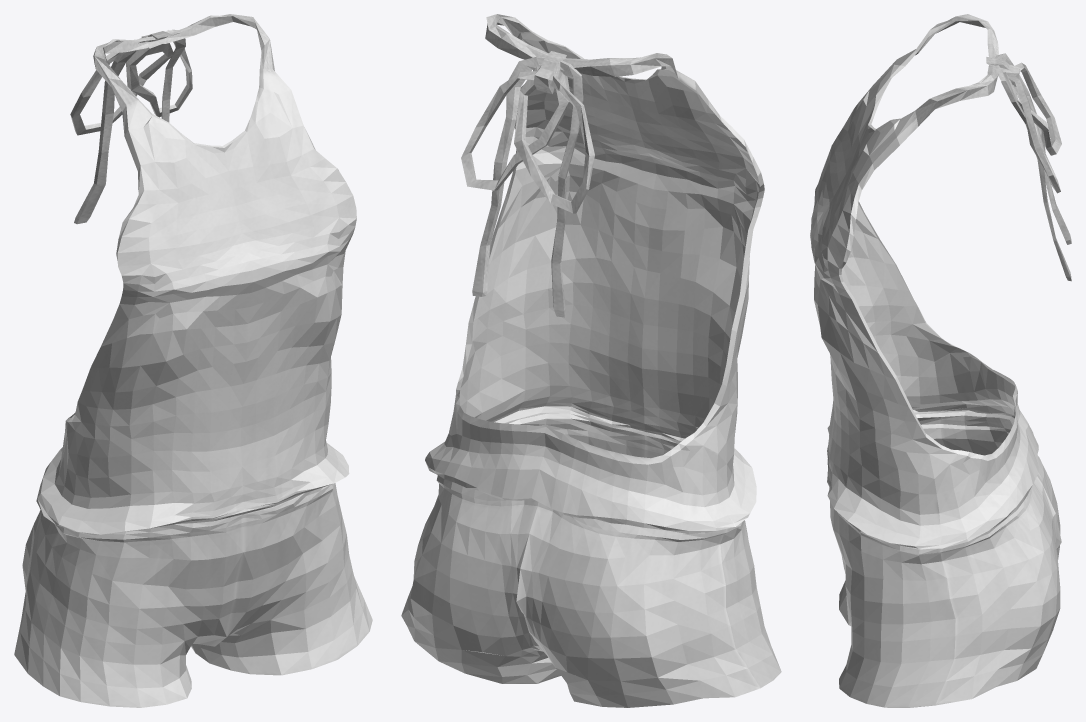
Rendered from mhw_punkduck_halterneck_romper.glb.
3 renders of one model, left to right at view 1: azimuth 30°, elevation 25°; view 2: azimuth 150°, elevation 25°; view 3: azimuth 270°, elevation 25°, orthographic. The views are drawn at different scales.
Visible parts, largest first — view 1: mhw_punkduck_halterneck_romper; view 2: mhw_punkduck_halterneck_romper; view 3: mhw_punkduck_halterneck_romper.
Boxes of the visible parts, x1,y1,x2,y2 form: mhw_punkduck_halterneck_romper: (14,14,372,707); mhw_punkduck_halterneck_romper: (401,14,781,707); mhw_punkduck_halterneck_romper: (810,14,1071,707).
Bounding box in the file's own units: 0.3984 × 0.7194 × 0.2828.
Materials: 1 (1 with a texture image).
